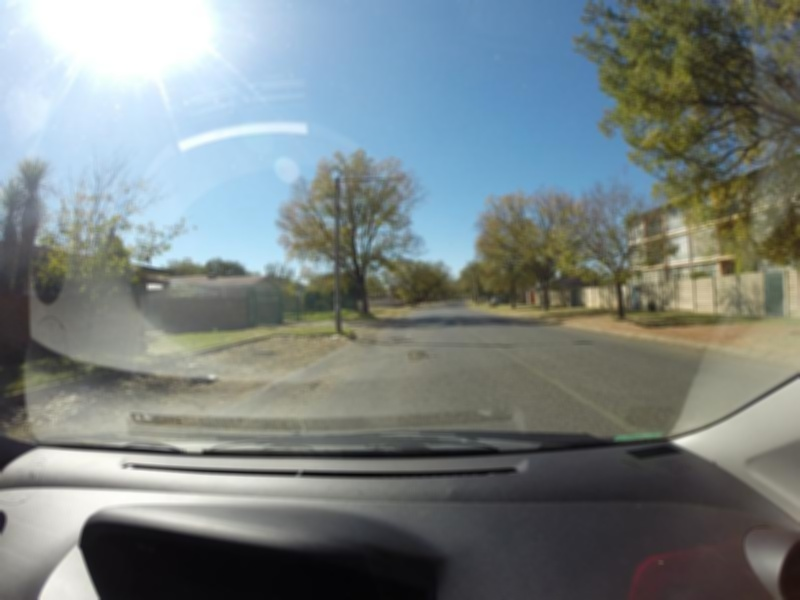pothole: (404, 341, 430, 362), (390, 333, 416, 342)
